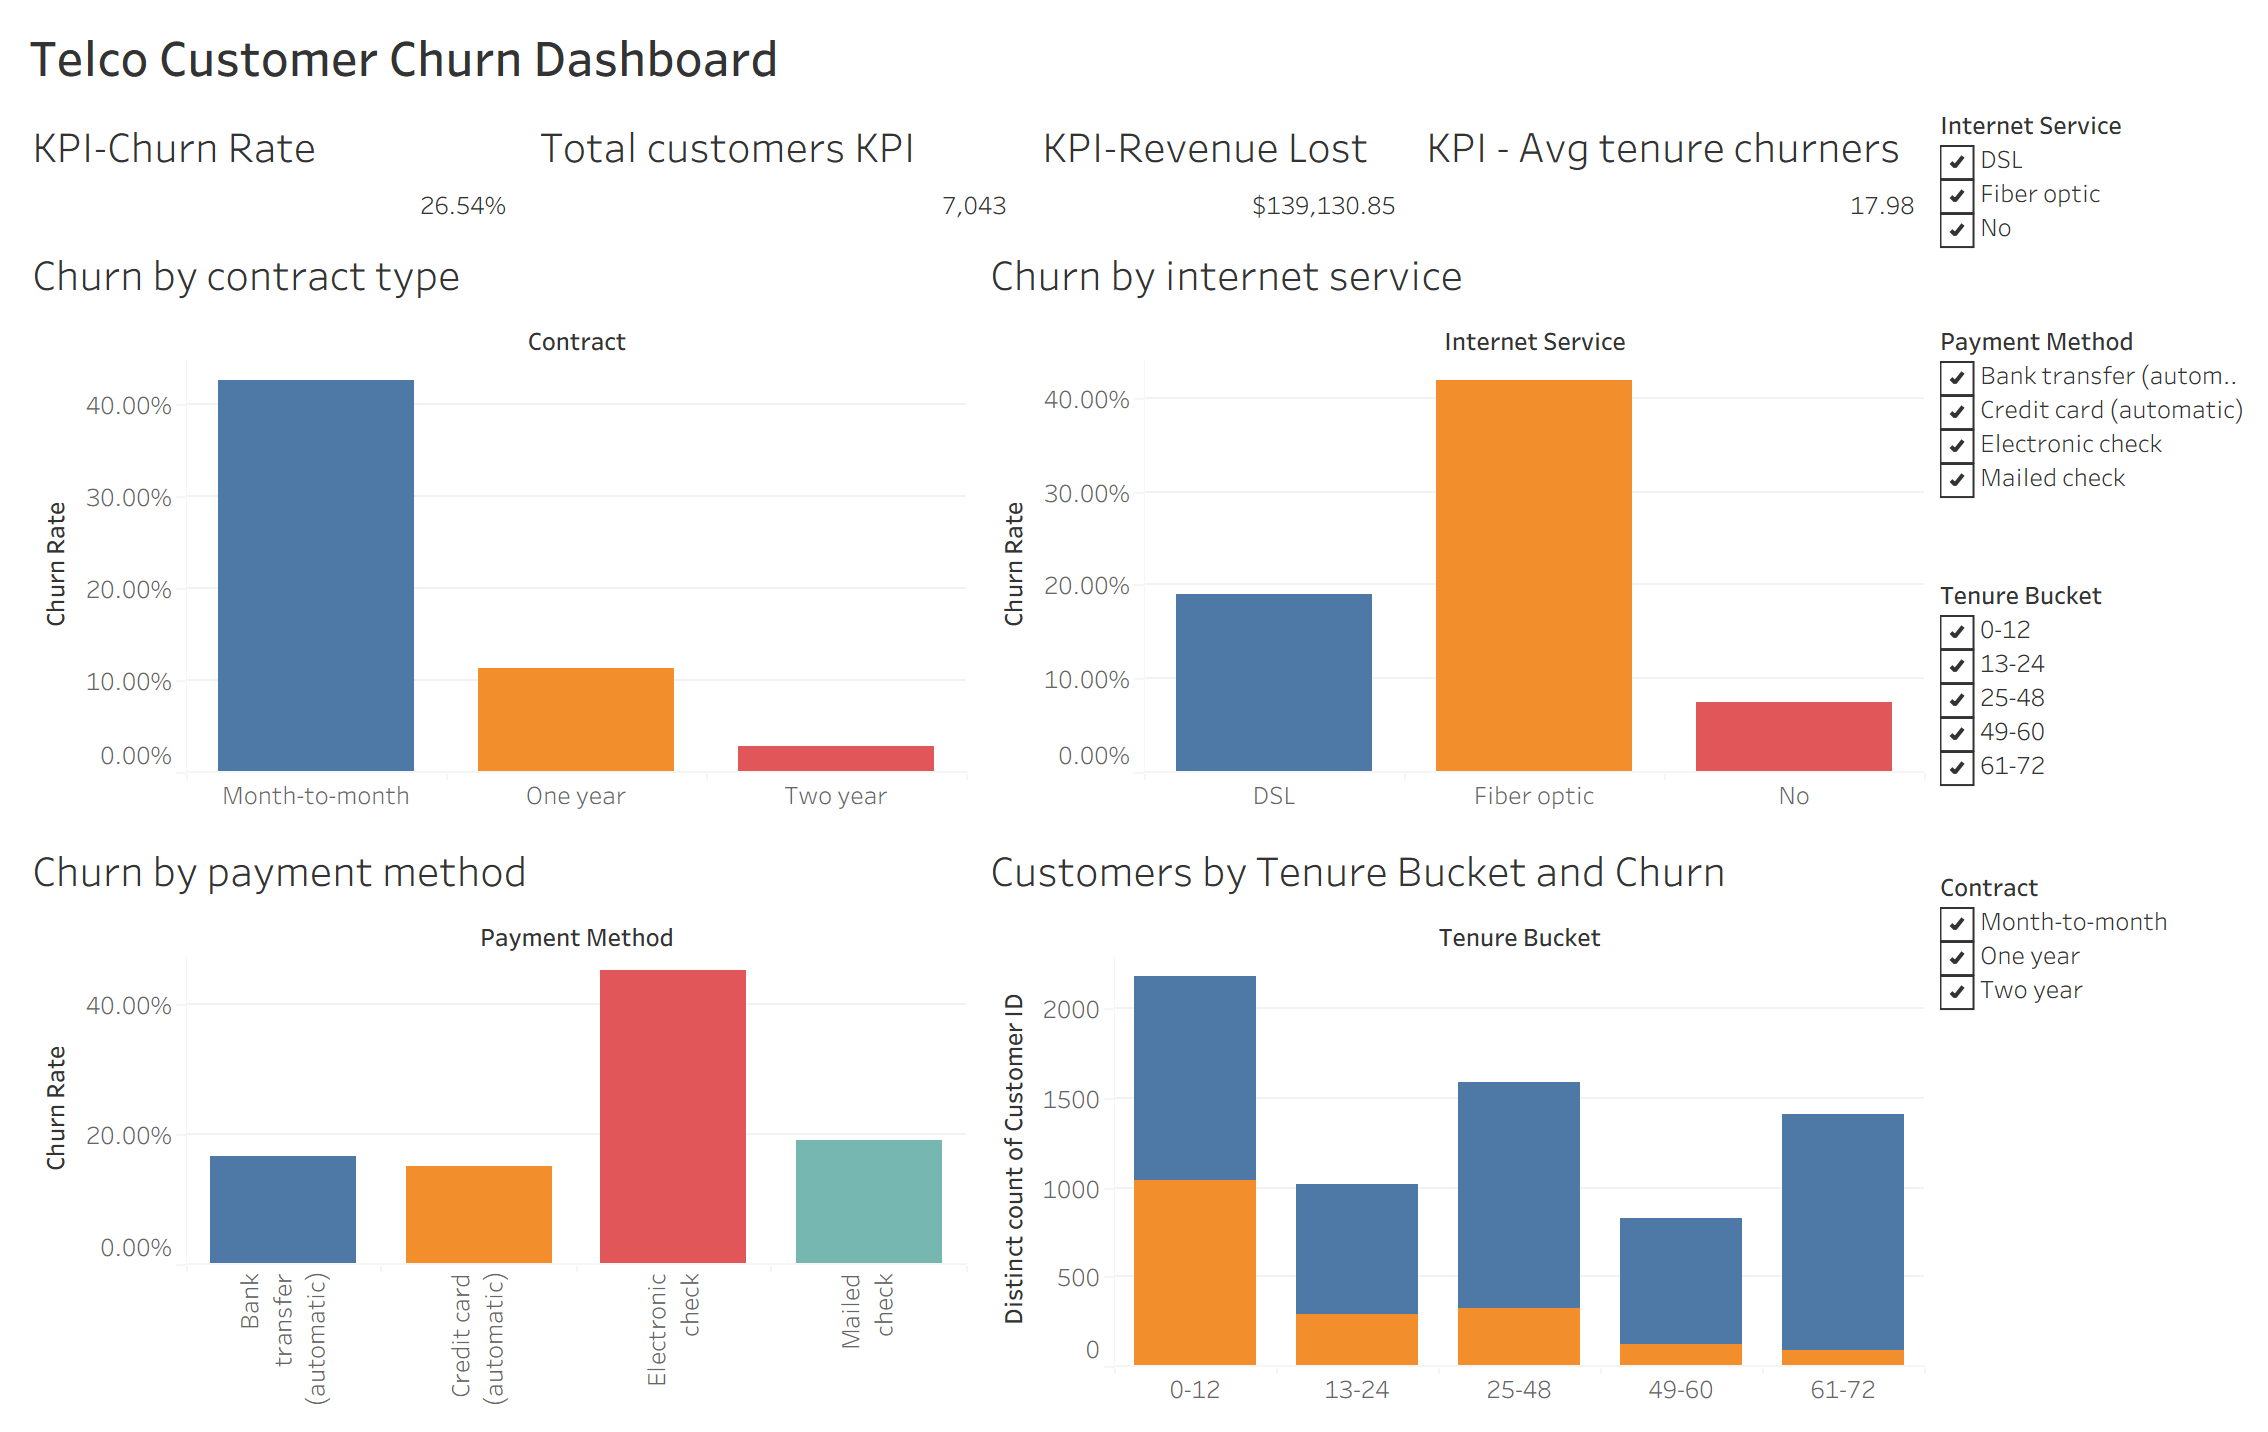

What the dashboard file says about the page in this screenshot:
{"tool":"tableau","page":{"name":"Dashboard 1","canvas":[1000,1000],"units":"permille","ordinal":0},"visuals":[{"type":"title","box":[7,11.2,985.9,57.3]},{"type":"worksheet","title":"KPI-Churn Rate","mark":"Text","box":[7,68.4,224.4,89.4]},{"type":"worksheet","title":"Total customers KPI","mark":"Automatic","box":[231.4,68.4,220.7,89.4]},{"type":"worksheet","title":"KPI-Revenue Lost","mark":"Automatic","box":[452.1,68.4,170,89.4]},{"type":"worksheet","title":"KPI - Avg tenure churners","mark":"Automatic","box":[622.1,68.4,229.8,89.4]},{"type":"filter","title":"Churn by internet service","param":"[federated.0owobph1j0l6451cjpbx405rz0cf].[none:InternetService:nk]","box":[851.9,68.4,141.1,150.8]},{"type":"worksheet","title":"Churn by contract type","mark":"Automatic","rows":["Calculation_0886794203521024"],"cols":["Contract"],"box":[7,157.8,422.4,415.5]},{"type":"worksheet","title":"Churn by internet service","mark":"Automatic","rows":["Calculation_0886794203521024"],"cols":["InternetService"],"box":[429.4,157.8,422.4,415.5]},{"type":"filter","title":"Churn by payment method","param":"[federated.0owobph1j0l6451cjpbx405rz0cf].[none:PaymentMethod:nk]","box":[851.9,219.3,141.1,177.4]},{"type":"filter","title":"Customers by Tenure Bucket and Churn","param":"[federated.0owobph1j0l6451cjpbx405rz0cf].[none:TenureBucket:nk]","box":[851.9,396.6,141.1,203.9]},{"type":"worksheet","title":"Churn by payment method","mark":"Automatic","rows":["Calculation_0886794203521024"],"cols":["PaymentMethod"],"box":[7,573.3,422.4,415.5]},{"type":"worksheet","title":"Customers by Tenure Bucket and Churn","mark":"Automatic","rows":["customerID"],"cols":["TenureBucket"],"box":[429.4,573.3,422.4,415.5]},{"type":"filter","title":"Churn by contract type","param":"[federated.0owobph1j0l6451cjpbx405rz0cf].[none:Contract:nk]","box":[851.9,600.5,141.1,150.8]}]}

Visuals, with their boxes on the dashboard's canvas, which has no fixed pixel size, in thousandths of its width and height (x1, y1, x2, y2). These are canvas units, not pixel positions in the 2268x1432 screenshot, which may show the page scaled, cropped or inside an application window:
title: (left=7, top=11, right=993, bottom=68)
"KPI-Churn Rate" worksheet (Text marks): (left=7, top=68, right=231, bottom=158)
"Total customers KPI" worksheet: (left=231, top=68, right=452, bottom=158)
"KPI-Revenue Lost" worksheet: (left=452, top=68, right=622, bottom=158)
"KPI - Avg tenure churners" worksheet: (left=622, top=68, right=852, bottom=158)
"Churn by internet service" filter: (left=852, top=68, right=993, bottom=219)
"Churn by contract type" worksheet: (left=7, top=158, right=429, bottom=573)
"Churn by internet service" worksheet: (left=429, top=158, right=852, bottom=573)
"Churn by payment method" filter: (left=852, top=219, right=993, bottom=397)
"Customers by Tenure Bucket and Churn" filter: (left=852, top=397, right=993, bottom=600)
"Churn by payment method" worksheet: (left=7, top=573, right=429, bottom=989)
"Customers by Tenure Bucket and Churn" worksheet: (left=429, top=573, right=852, bottom=989)
"Churn by contract type" filter: (left=852, top=600, right=993, bottom=751)
